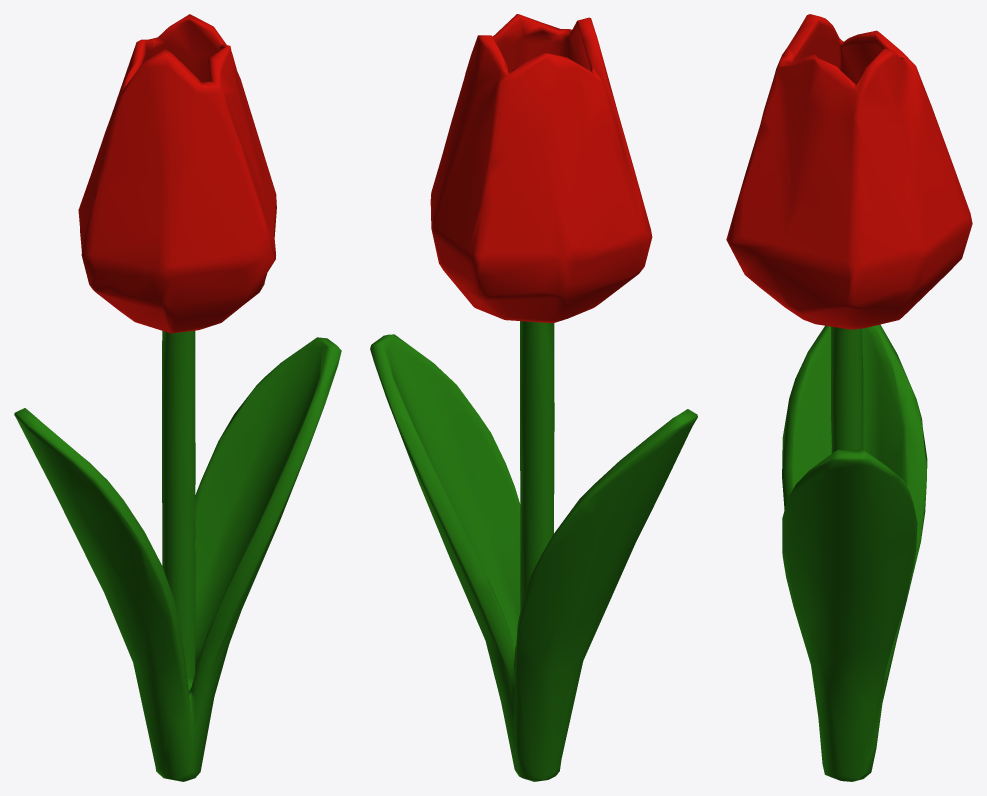
The model's file is gen3d-tulip-lod0.glb.
3 views of the same model, side by side, from view 1: azimuth 30°, elevation 25°; view 2: azimuth 150°, elevation 25°; view 3: azimuth 270°, elevation 25° (orthographic).
Visible parts, largest first — view 1: part_0; view 2: part_0; view 3: part_0.
Part boxes in pixels (x1,y1,x2,y2): part_0: (14,14,341,781); part_0: (370,14,697,781); part_0: (726,14,972,781).
Size of the model in its own units: 0.4405 by 0.9998 by 0.2999.
